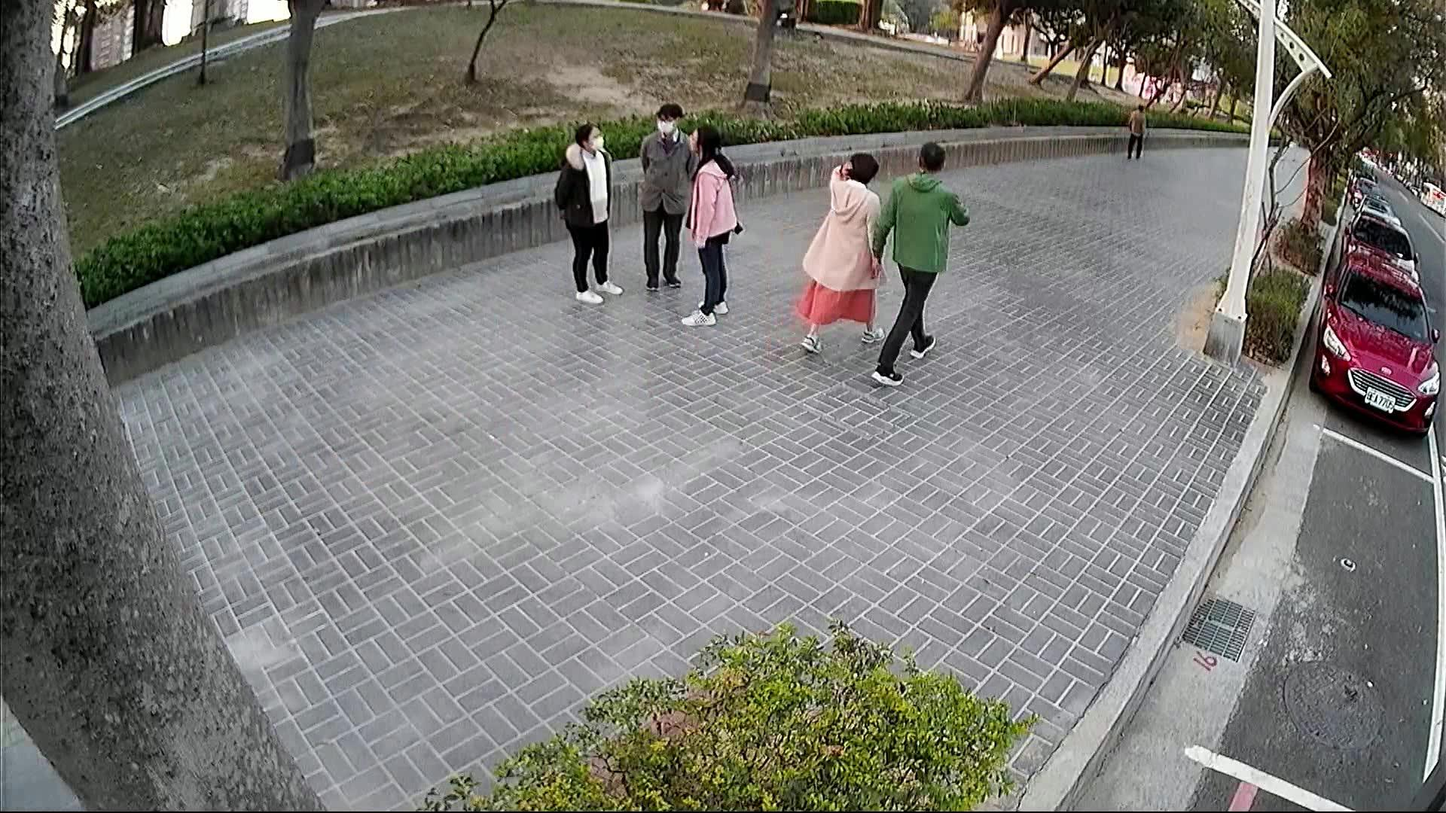person: (862, 130, 974, 389), (791, 145, 886, 358), (676, 117, 749, 327), (549, 117, 623, 307), (634, 96, 697, 294), (1122, 100, 1152, 161)
